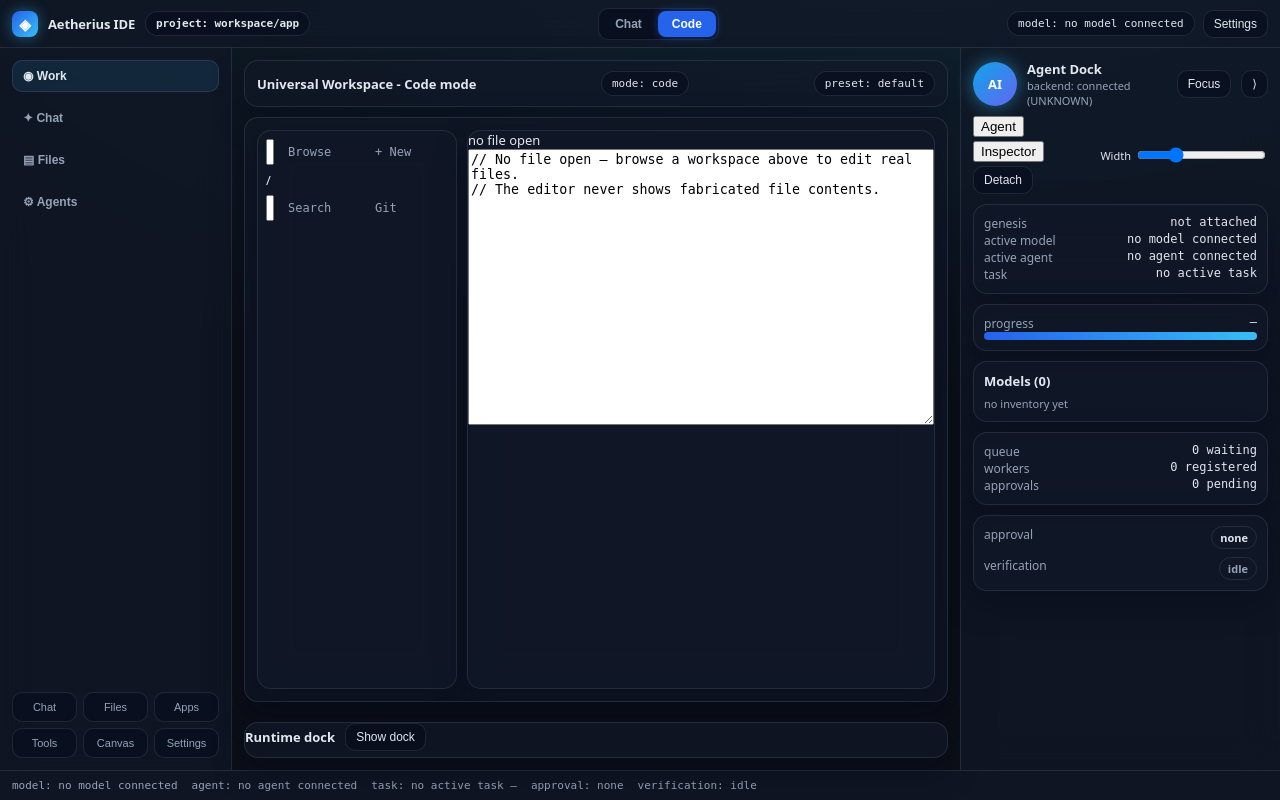
detach and reattach › successful detach hides in-shell panel; reattach restores it
Expected: the text with test id "backend-state" shows "backend:", 1027,78 -> 1131,108
Click the button with test id "sidebar-detach".
click(1003, 180)  # box 973,166 -> 1033,194
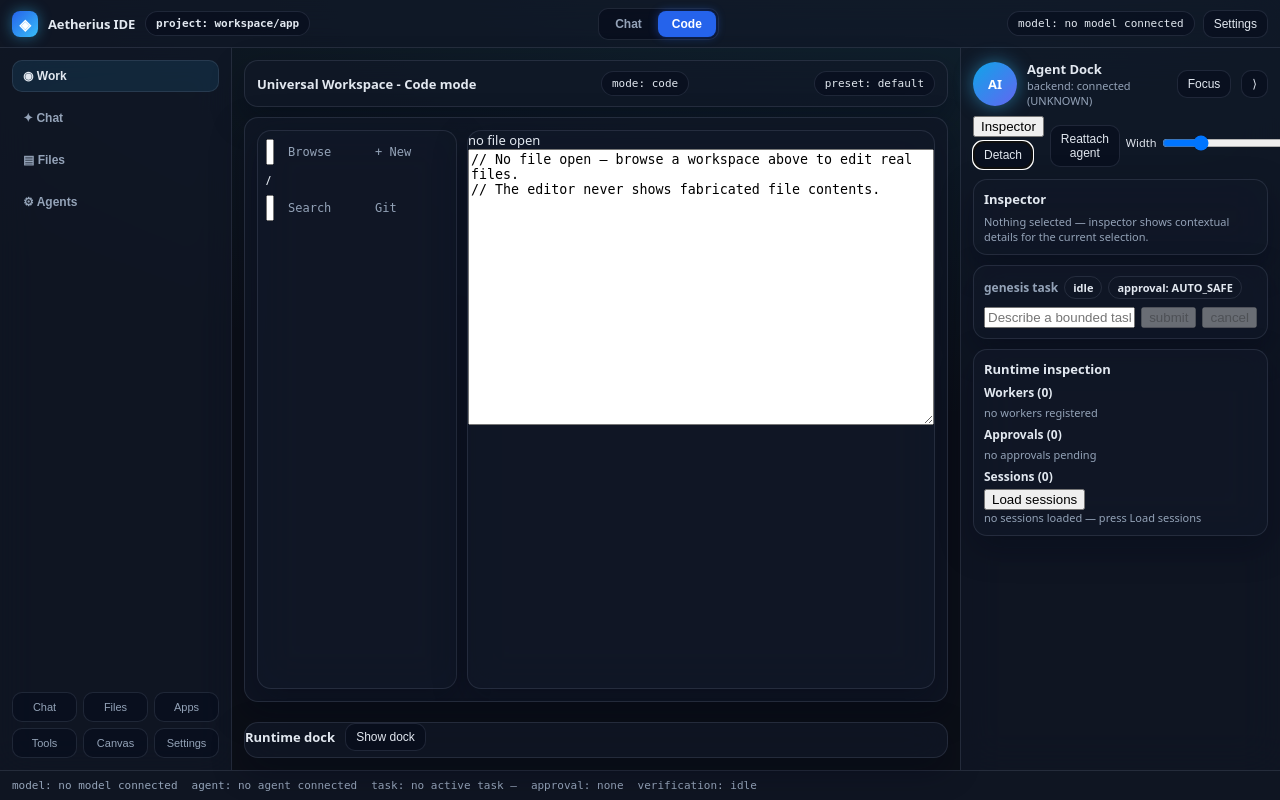
Now the button with test id "reattach-agent" is shown
Click the button with test id "reattach-agent".
click(1085, 146)  # box 1050,124 -> 1120,166
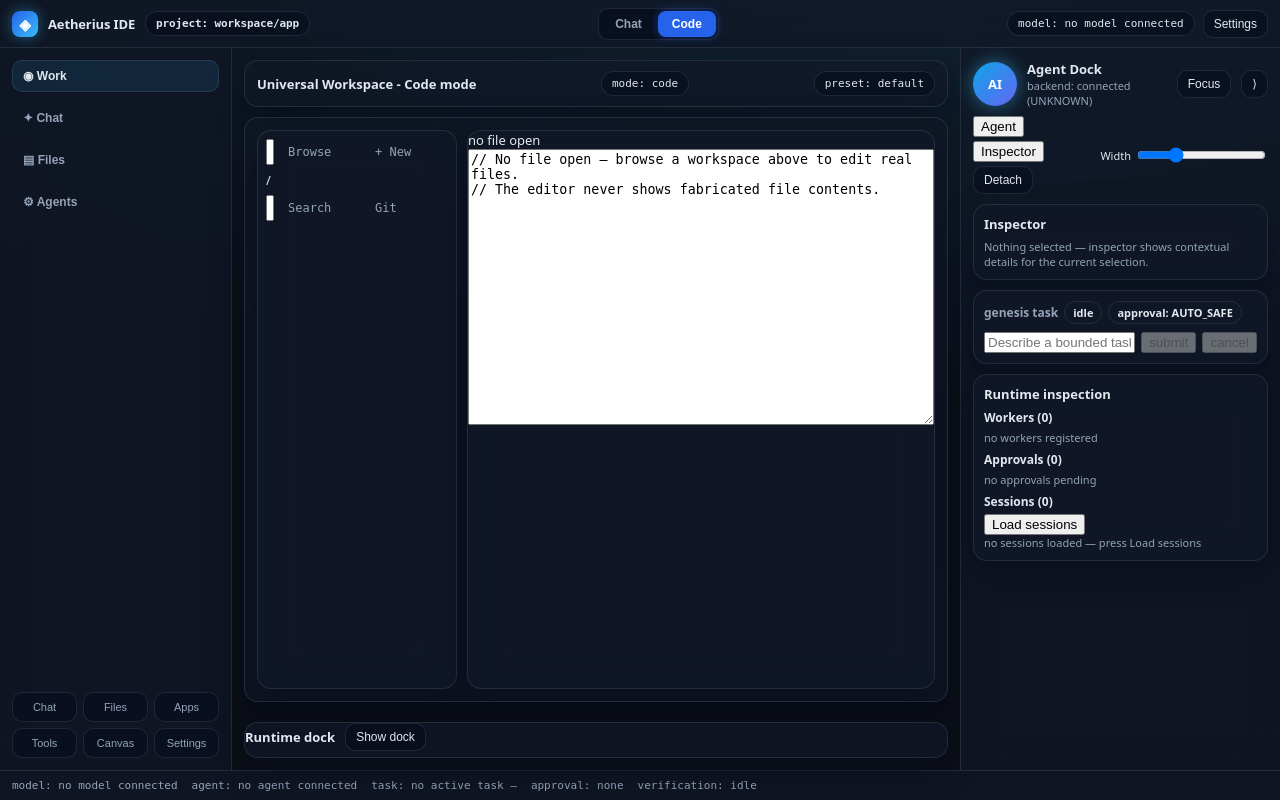
Now the button with test id "reattach-agent" is gone
